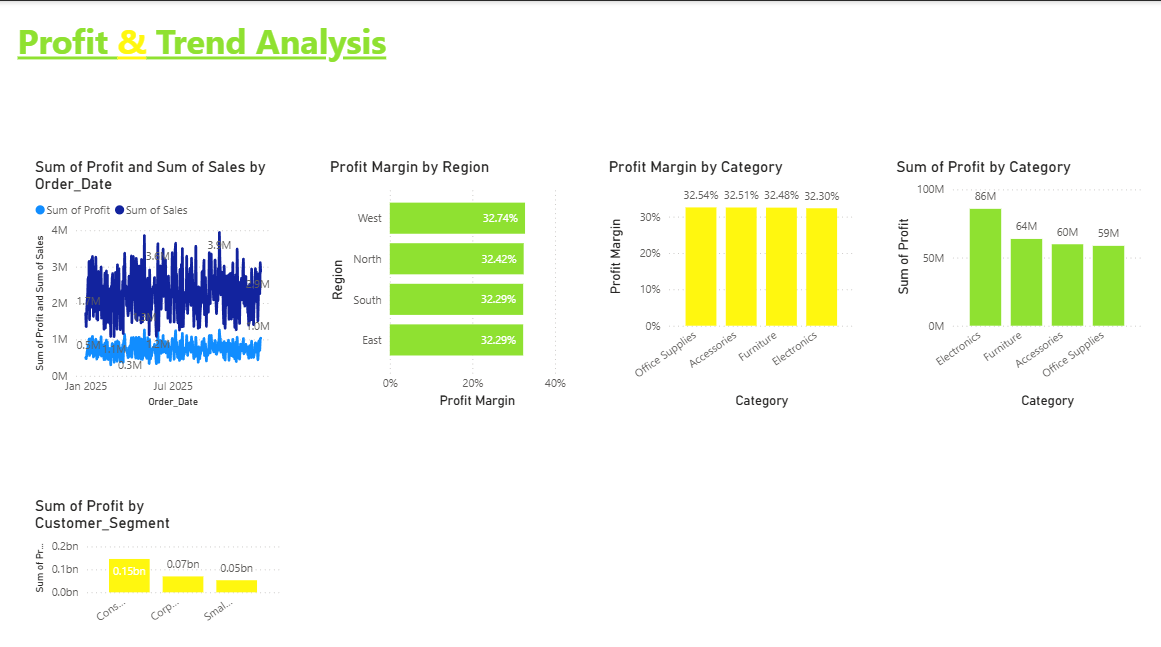

The dashboard page shown, as its layout file describes it:
{"tool":"powerbi","page":{"name":"Profit & Trend Analysis","canvas":[1280,720],"ordinal":2},"visuals":[{"type":"lineChart","fields":{"Category":["retail_cleaned.Order_Date"],"Y":["Sum(retail_cleaned.Profit)","Sum(retail_cleaned.Sales)"]},"box":[35.7,171.5,279.9,279.9],"z":0},{"type":"clusteredColumnChart","fields":{"Category":["retail_cleaned.Category"],"Y":["Sum(retail_cleaned.Profit)"]},"box":[981.1,171.5,279.9,279.9],"z":1},{"type":"clusteredColumnChart","fields":{"Category":["retail_cleaned.Customer_Segment"],"Y":["Sum(retail_cleaned.Profit)"]},"box":[35.7,543.4,279.9,150.9],"z":2},{"type":"clusteredColumnChart","fields":{"Category":["retail_cleaned.Category"],"Y":["DateTable.Profit Margin"]},"box":[665.5,171.5,279.9,279.9],"z":3},{"type":"clusteredBarChart","fields":{"Category":["retail_cleaned.Region"],"Y":["DateTable.Profit Margin"]},"box":[359.5,171.5,279.9,279.9],"z":4},{"type":"textbox","box":[16.5,13.7,623,94.7],"z":5}]}

Visuals, with their boxes in screenshot pixels (x1, y1, x2, y2), scaled from the page's 1280x720 canvas onto the 1161x647 screenshot:
lineChart - retail_cleaned.Order_Date x Sum(retail_cleaned.Profit): locate(32, 154, 286, 406)
clusteredColumnChart - retail_cleaned.Category x Sum(retail_cleaned.Profit): locate(890, 154, 1144, 406)
clusteredColumnChart - retail_cleaned.Customer_Segment x Sum(retail_cleaned.Profit): locate(32, 488, 286, 624)
clusteredColumnChart - retail_cleaned.Category x DateTable.Profit Margin: locate(604, 154, 858, 406)
clusteredBarChart - retail_cleaned.Region x DateTable.Profit Margin: locate(326, 154, 580, 406)
textbox: locate(15, 12, 580, 97)
